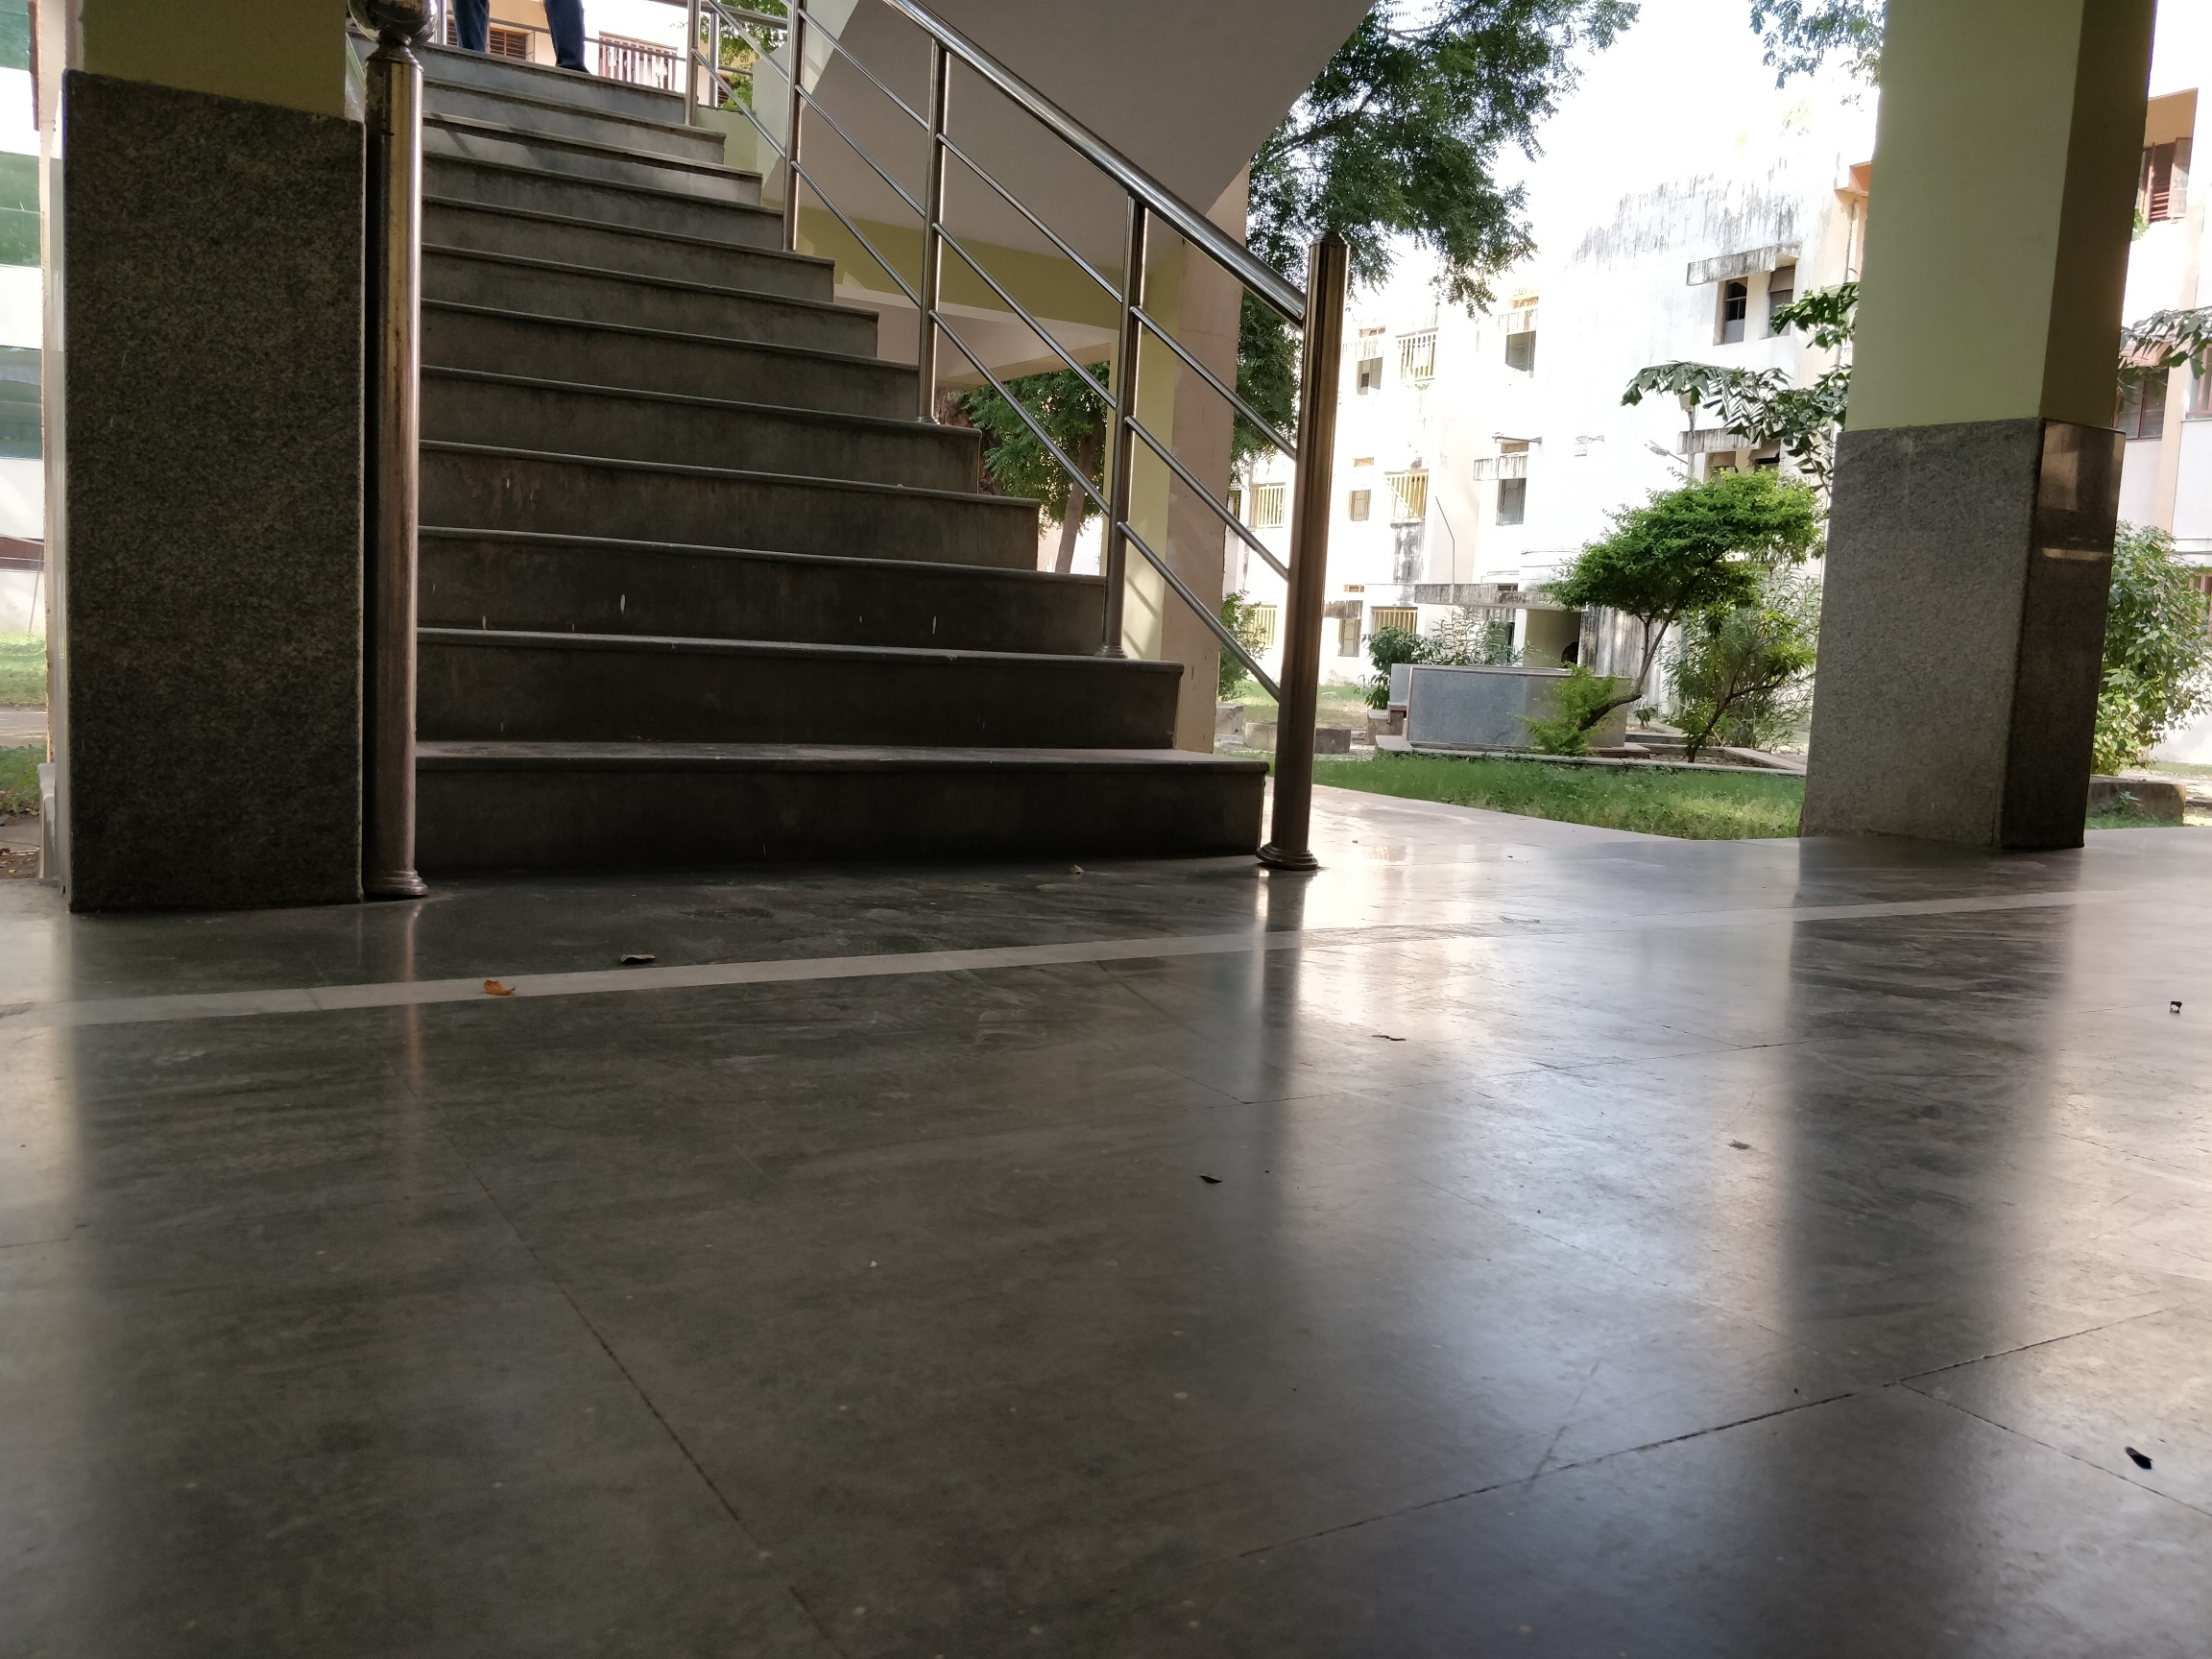stairs_up: (394, 28, 1259, 901)
